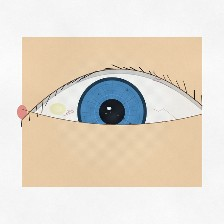pinguecula_lesion: (41, 96, 74, 122)
